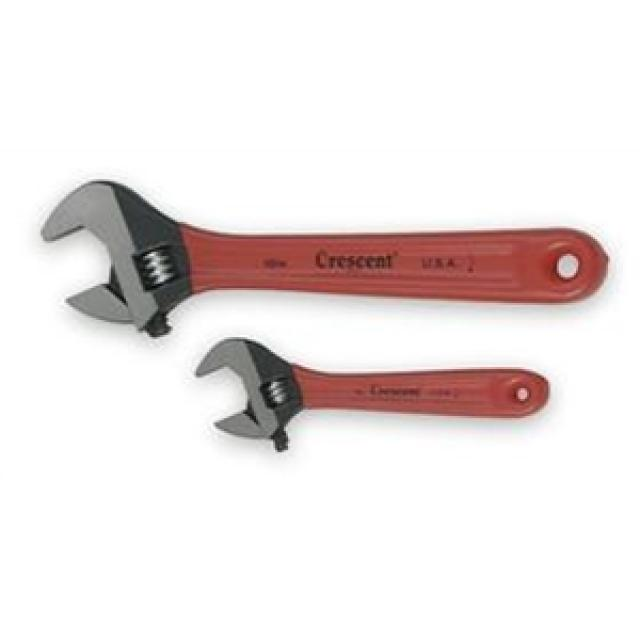wrench: (31, 148, 640, 350), (187, 323, 640, 463)
